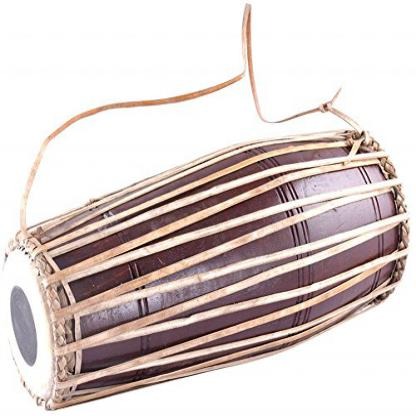Mridangam: (1, 138, 412, 413)
